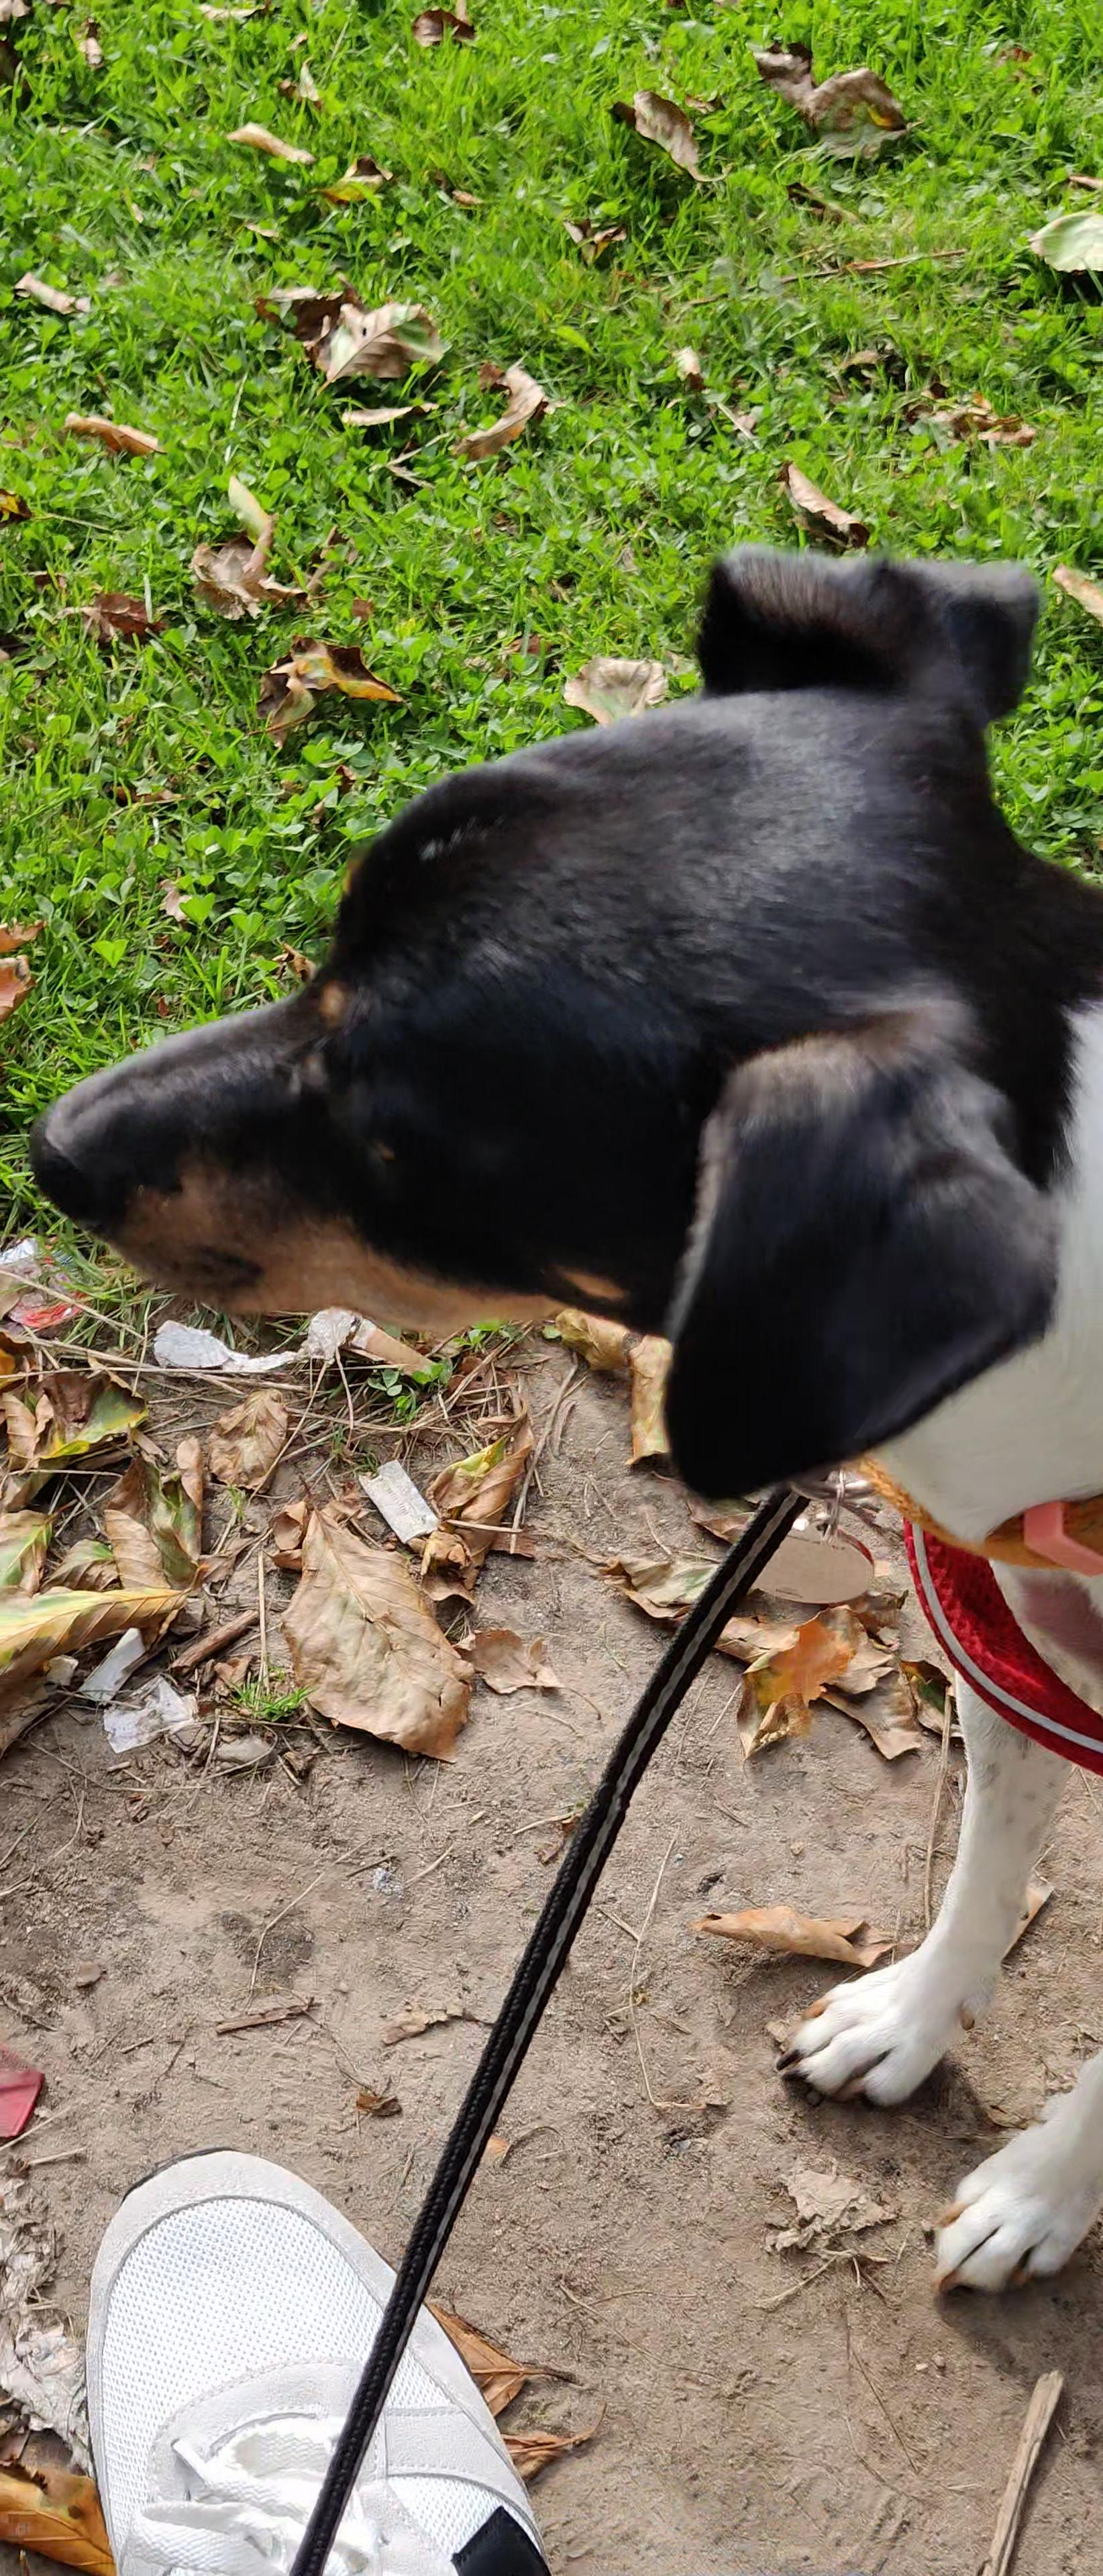Dog: (15, 527, 1103, 2313)
